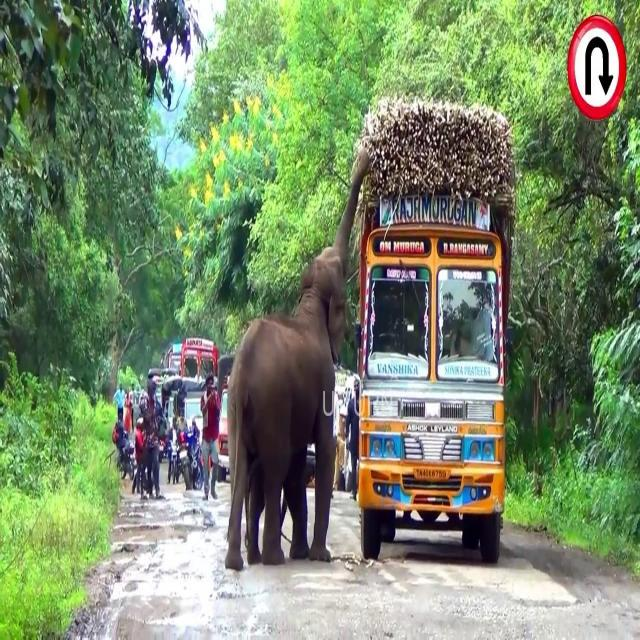Elephant: (224, 148, 370, 572)
